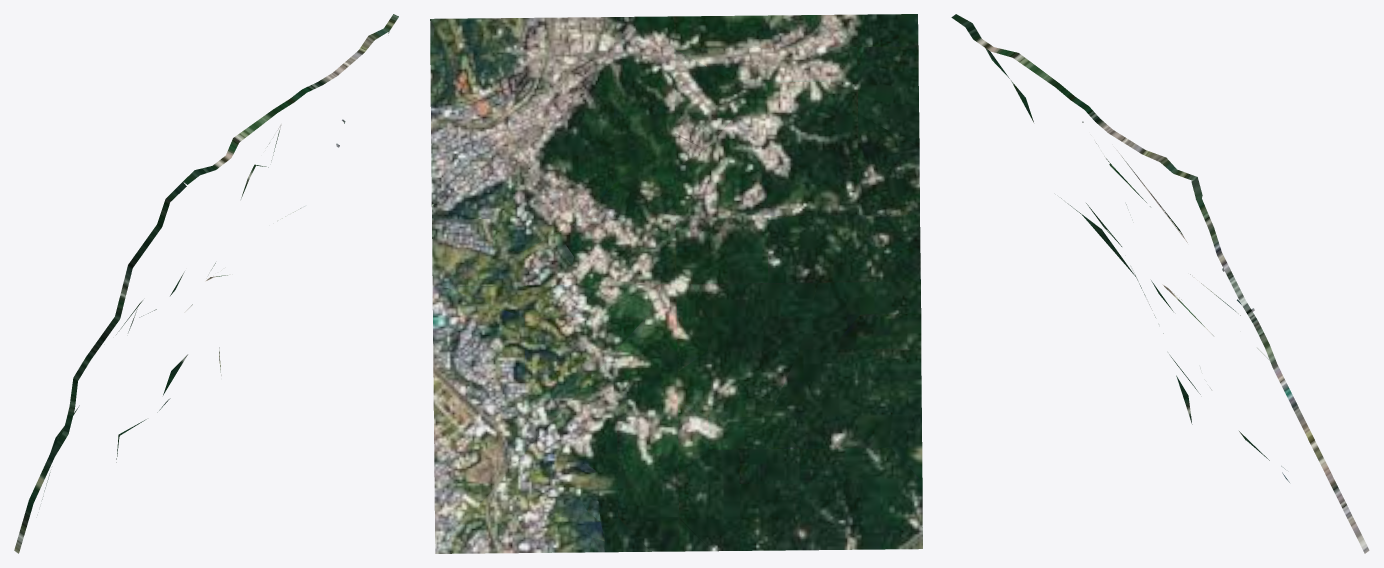
The picture shows the model from 3 angles, left to right: view 1: azimuth 30°, elevation 25°; view 2: azimuth 150°, elevation 25°; view 3: azimuth 270°, elevation 25°; orthographic projection. The views are drawn at different scales.
Bounding box in the file's own units: 4820 × 4529 × 4057.
Materials: 1 (1 with a texture image).
